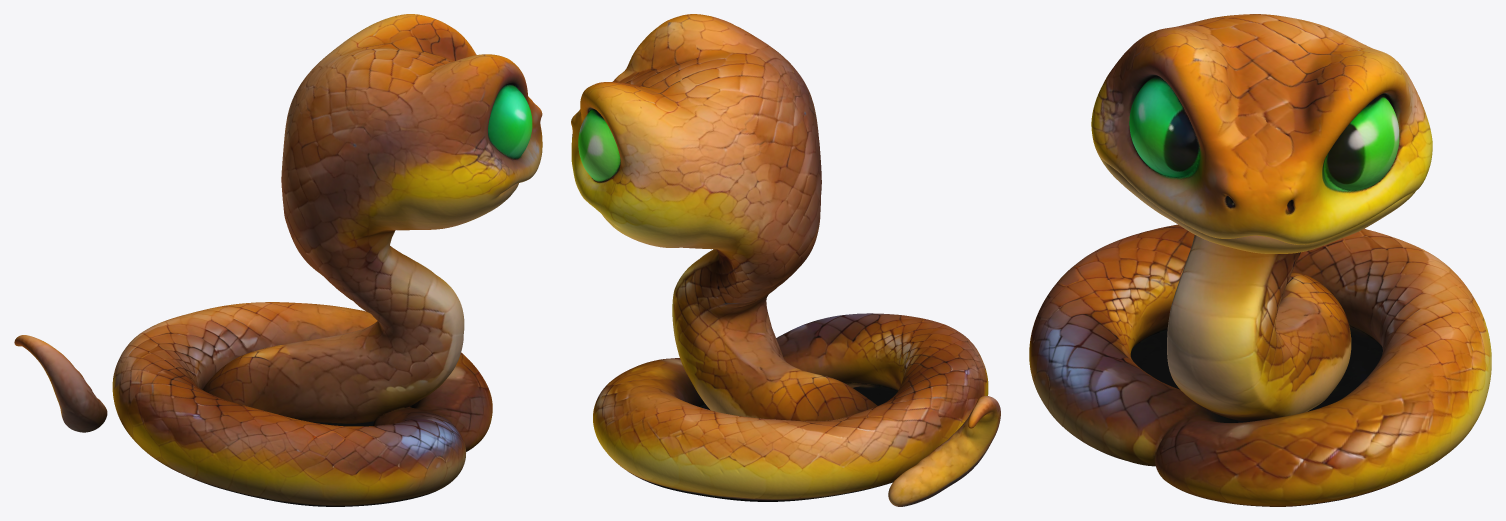
Rendered from exploit.glb.
3 views of the same model, side by side, from view 1: azimuth 30°, elevation 25°; view 2: azimuth 150°, elevation 25°; view 3: azimuth 270°, elevation 25° (orthographic). The views are drawn at different scales.
Visible parts, largest first — view 1: tripo_node_05157f30-04db-4bab-a0d2-cc9a164a27d1; view 2: tripo_node_05157f30-04db-4bab-a0d2-cc9a164a27d1; view 3: tripo_node_05157f30-04db-4bab-a0d2-cc9a164a27d1.
Part boxes in pixels (x1=…): tripo_node_05157f30-04db-4bab-a0d2-cc9a164a27d1: x1=14, y1=14, x2=542, y2=506; tripo_node_05157f30-04db-4bab-a0d2-cc9a164a27d1: x1=571, y1=14, x2=1000, y2=506; tripo_node_05157f30-04db-4bab-a0d2-cc9a164a27d1: x1=1029, y1=14, x2=1491, y2=506.
Bounding box in the file's own units: 32767 × 26231 × 23966.
Materials: 1 (1 with a texture image).
